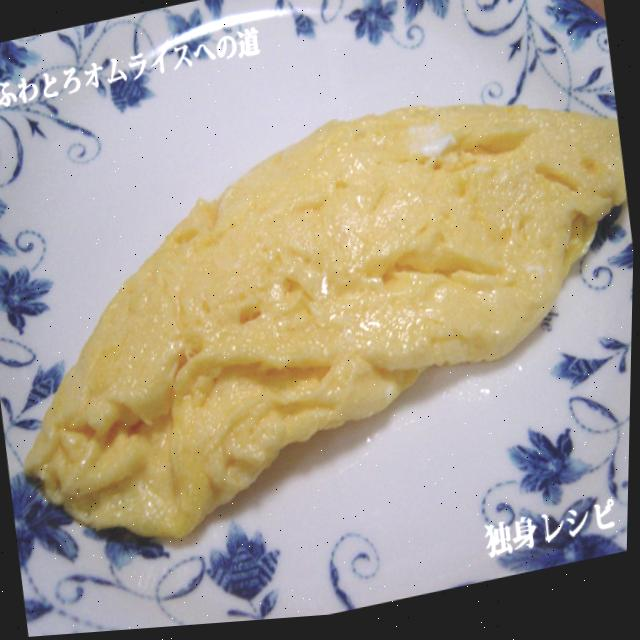鸡蛋料理: (0, 51, 638, 577)
